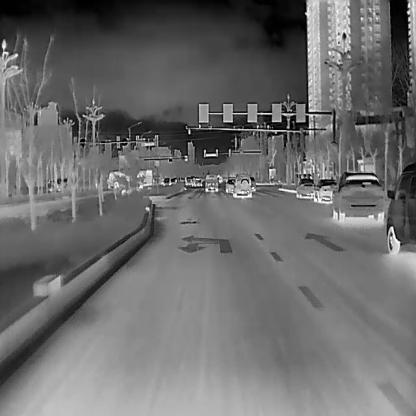car: (386, 163, 416, 253), (331, 171, 383, 220), (107, 168, 152, 190), (313, 178, 336, 201), (231, 172, 250, 194), (295, 177, 315, 197), (204, 173, 217, 191), (225, 177, 235, 193), (249, 176, 255, 190)
